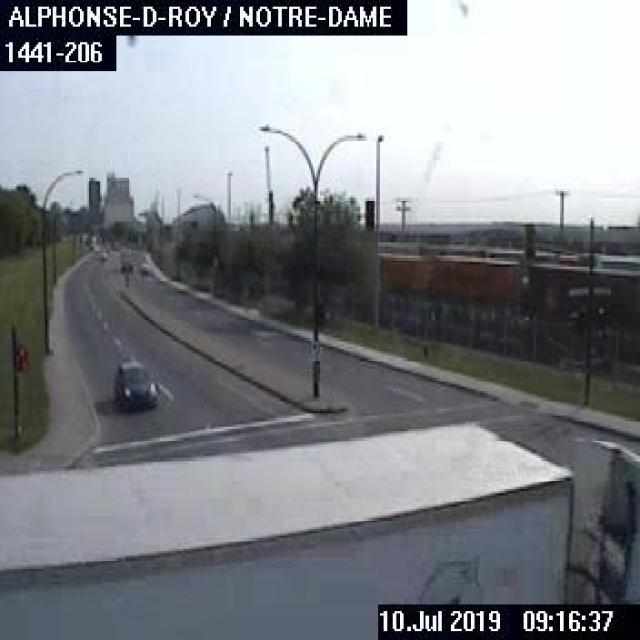vehicle: (0, 416, 638, 638), (111, 353, 154, 409), (98, 249, 107, 264)
